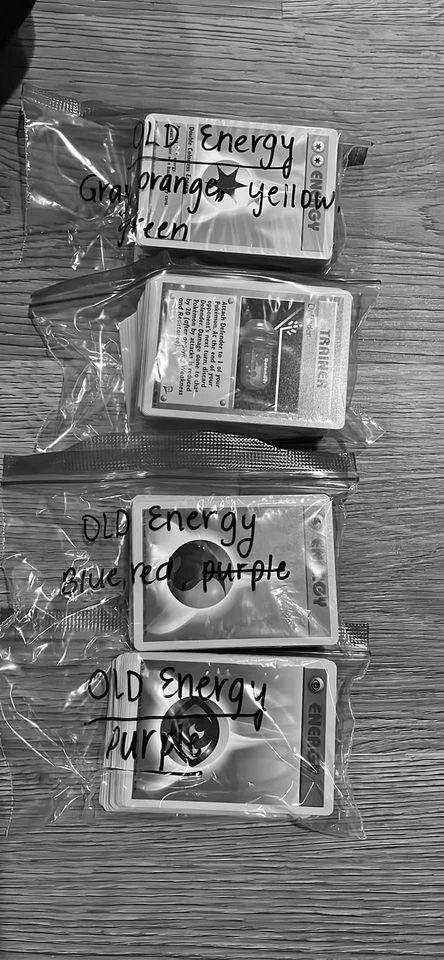card: (121, 652, 340, 817), (131, 493, 346, 655), (138, 274, 354, 432), (134, 114, 342, 260)
